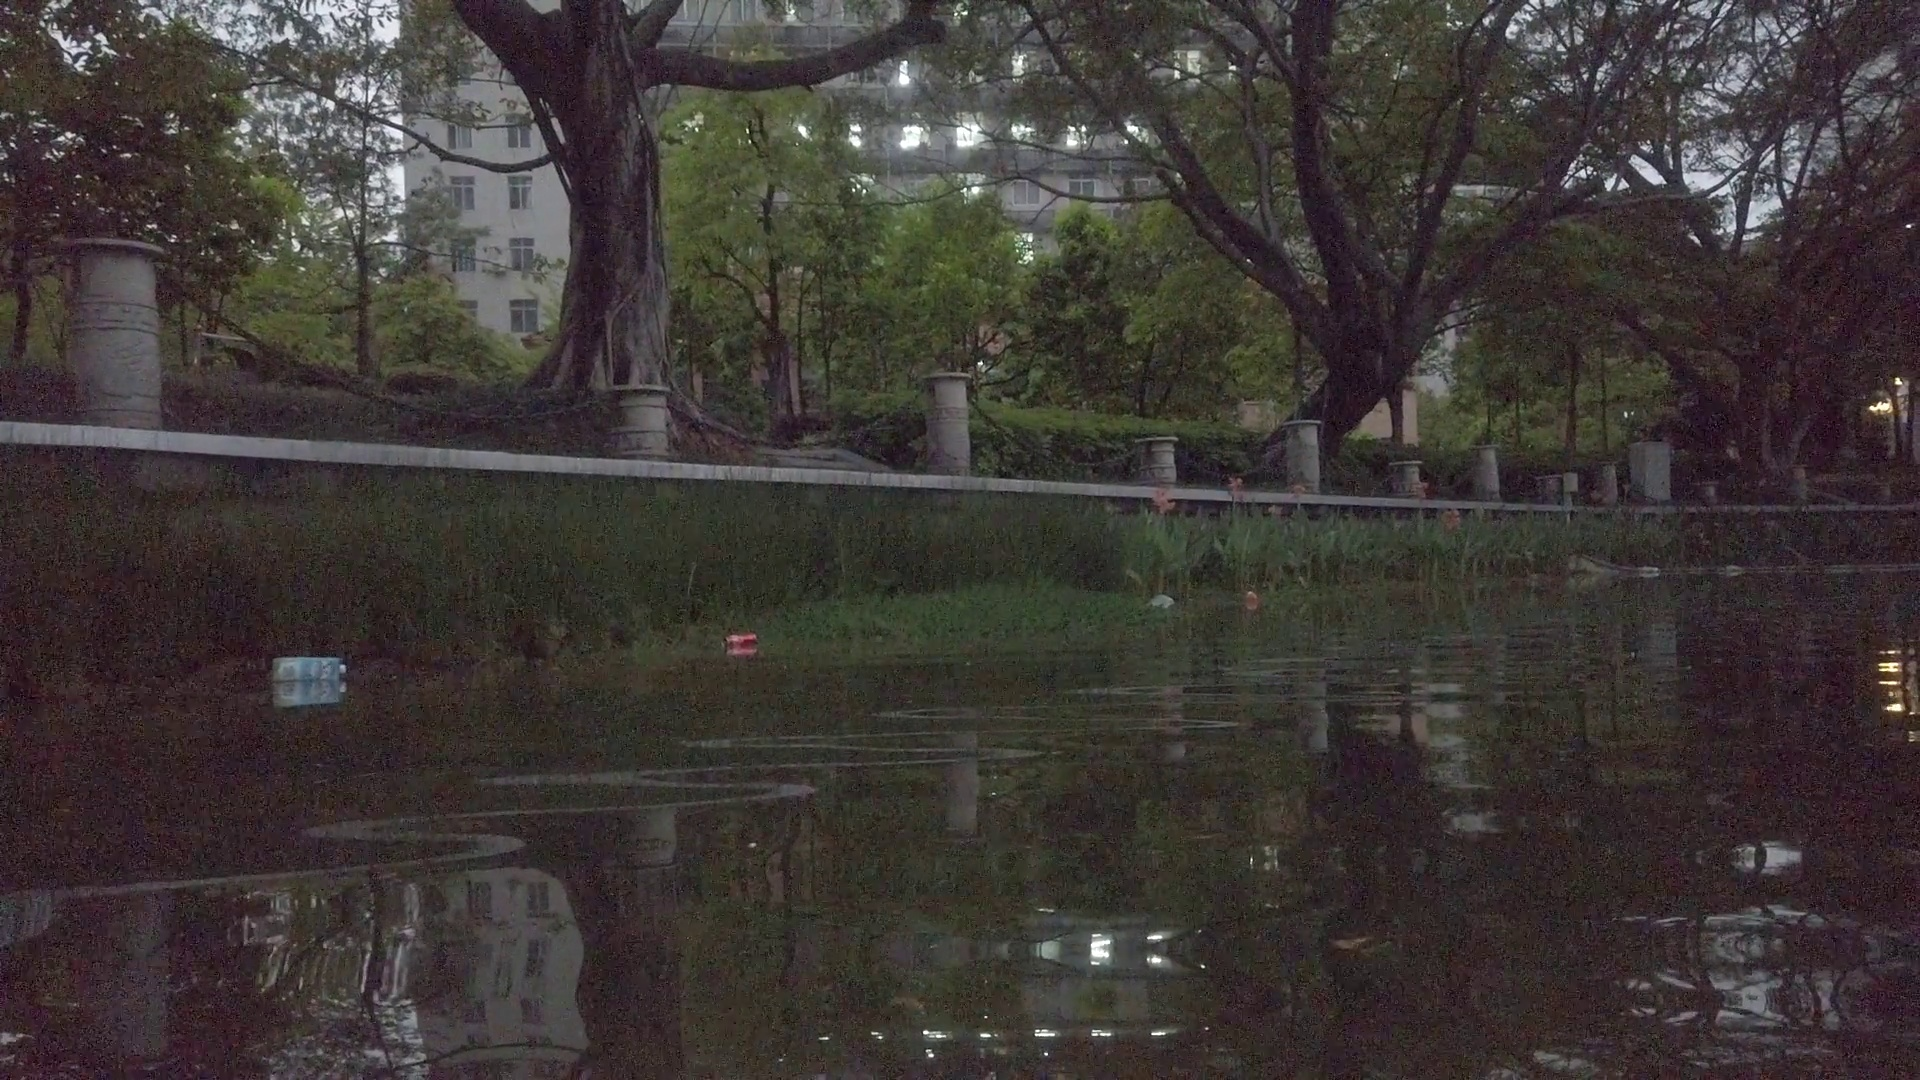bottle: (1137, 584, 1179, 628), (723, 632, 758, 651), (1244, 589, 1262, 615), (1722, 564, 1745, 582), (1638, 566, 1664, 578)
carton: (272, 655, 347, 680)
